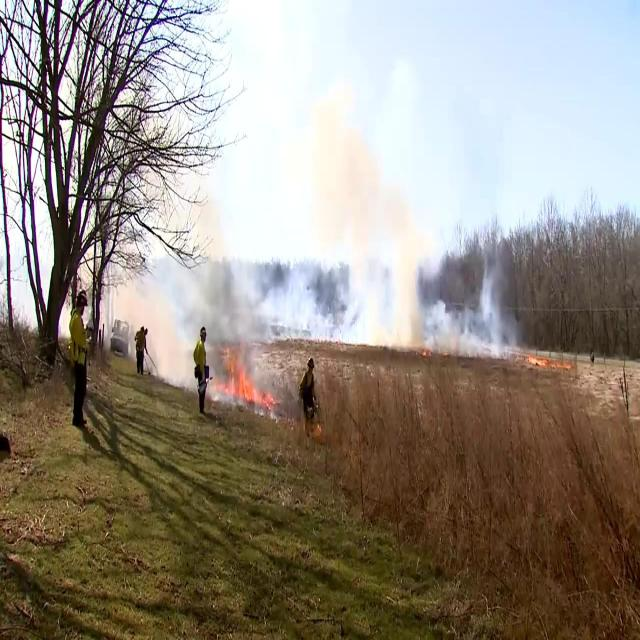Fire: (211, 346, 275, 404), (528, 354, 549, 366), (555, 357, 571, 371), (556, 360, 573, 371)
